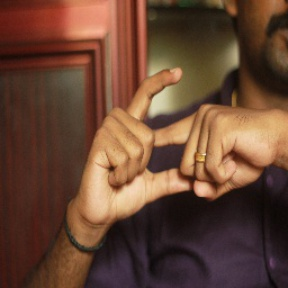E: (118, 62, 215, 204)
